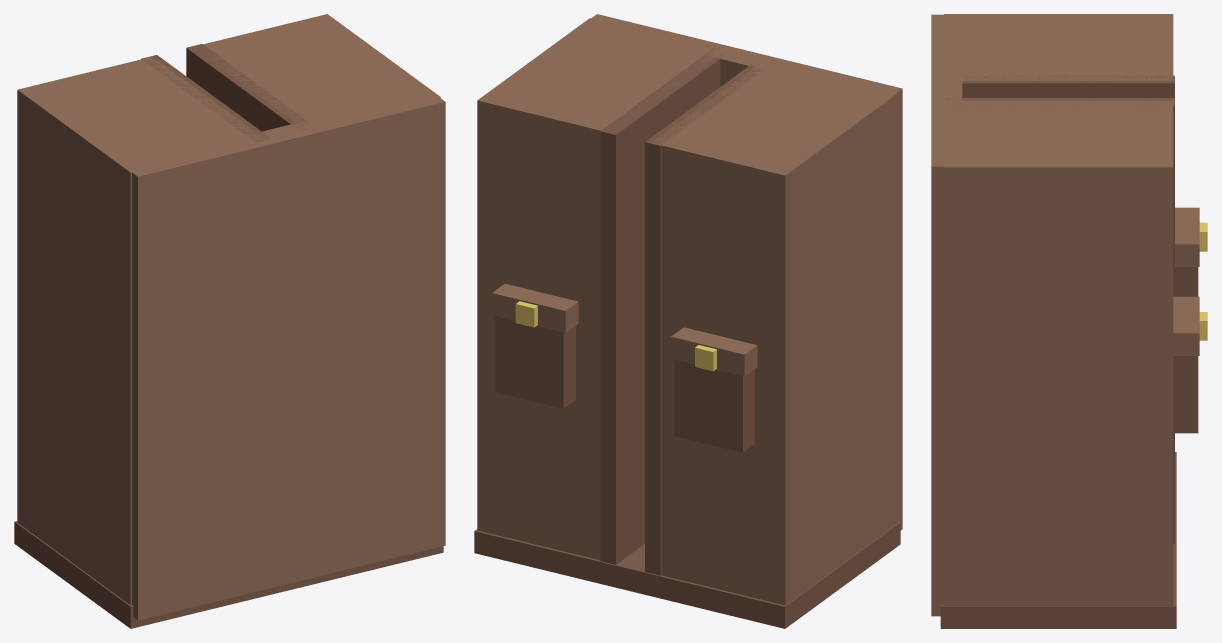
The model's file is casaco_pelo_saia.glb.
3 renders of one model, left to right at view 1: azimuth 30°, elevation 25°; view 2: azimuth 150°, elevation 25°; view 3: azimuth 270°, elevation 25°, orthographic. The views are drawn at different scales.
Visible parts, largest first — view 1: casaco_pelo_saia; view 2: casaco_pelo_saia; view 3: casaco_pelo_saia.
Part boxes in pixels (x1,y1,x2,y2): casaco_pelo_saia: [14, 14, 445, 628]; casaco_pelo_saia: [474, 14, 902, 628]; casaco_pelo_saia: [931, 14, 1207, 628].
Bounding box in the file's own units: 0.59 × 0.82 × 0.445.
